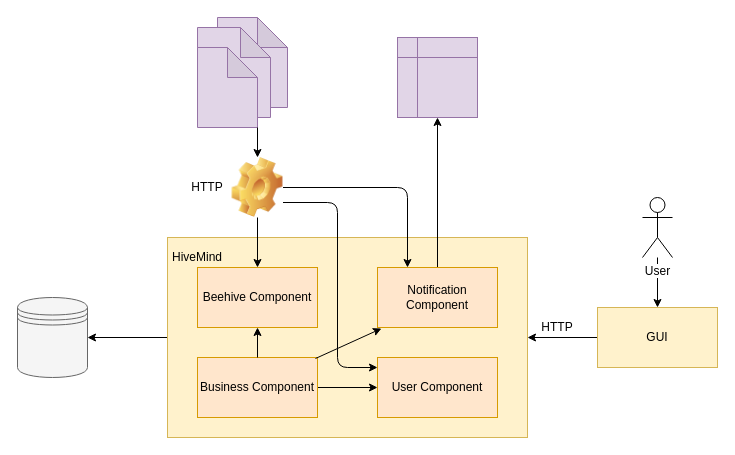
Some shapes in this 735 by 455 pixel diagram are drawn without their labels. The shapes that lost their labels are listed below. From the top down, each one's centre as x and y in pixels, then its label:
At point 227,87: "Flowcharts".
At point 437,77: "DMN Table".
At point 52,337: "Database".
